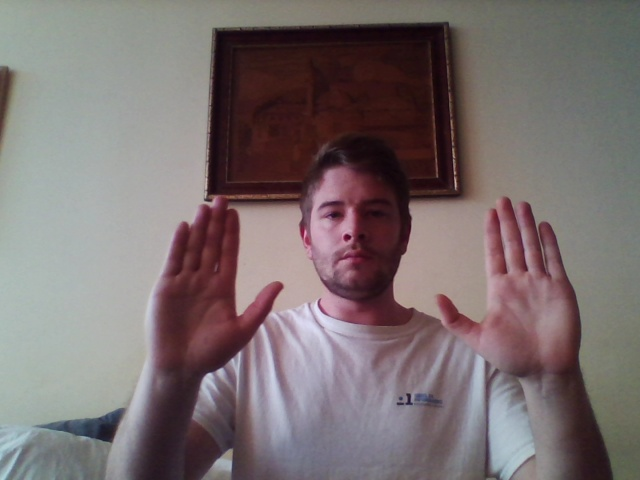prekrasno: (143, 195, 580, 376)
